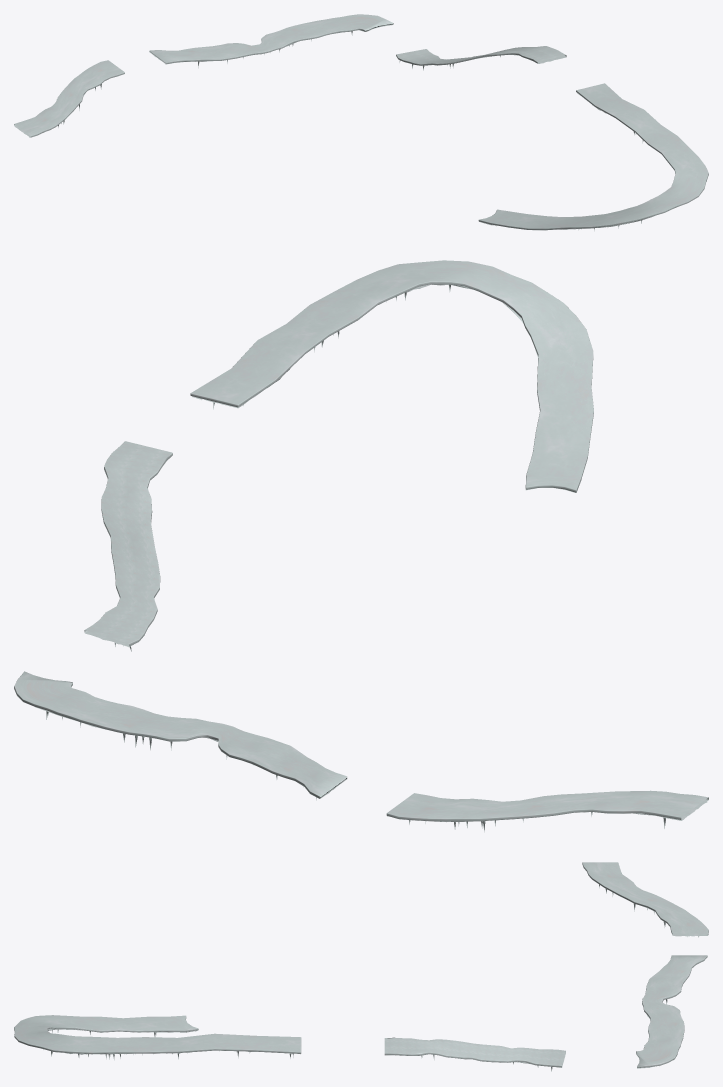
The model's file is field_winter_road_iceroad.fbx.
3 views of the same model, one above another, from view 1: azimuth 30°, elevation 25°; view 2: azimuth 150°, elevation 25°; view 3: azimuth 270°, elevation 25° (orthographic). The views are drawn at different scales.
Visible parts, largest first — view 1: field_winter_road14, field_winter_road13; view 2: field_winter_road14, field_winter_road13; view 3: field_winter_road14, field_winter_road13.
Boxes of the visible parts, x1,y1,x2,y2 form: field_winter_road14: (396, 46, 708, 231); field_winter_road13: (14, 14, 393, 137); field_winter_road14: (84, 260, 593, 651); field_winter_road13: (14, 671, 708, 832); field_winter_road14: (14, 1015, 565, 1071); field_winter_road13: (582, 862, 708, 1068).
Bounding box in the file's own units: 4174 × 577 × 5246.
Materials: 1 (1 with a texture image).
